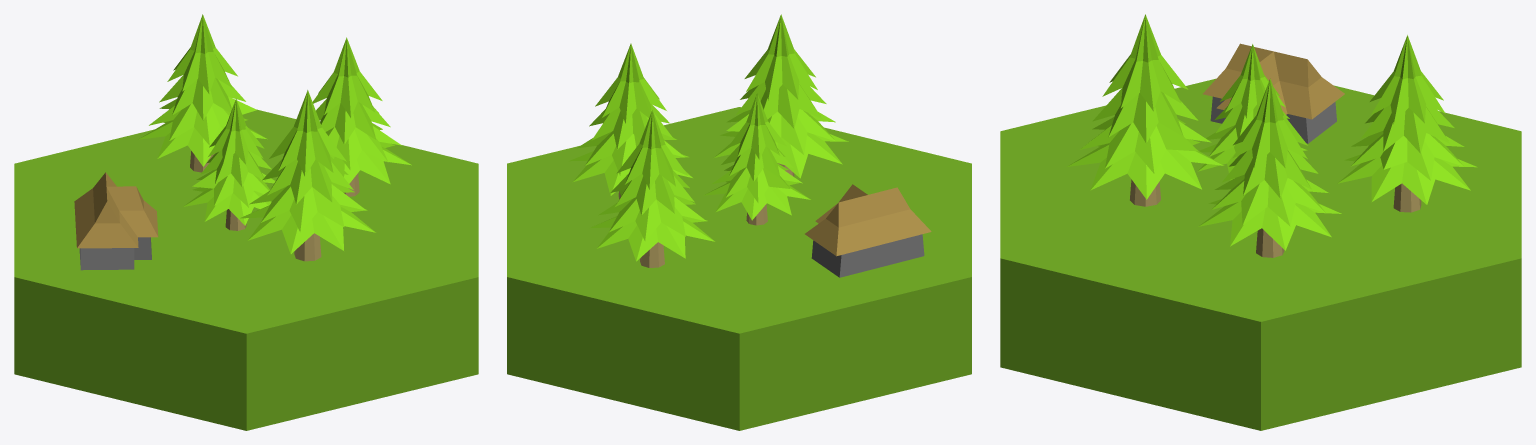
File: Casas_Pinos_Altos_1.fbx
3 views of the same model, side by side, from view 1: azimuth 30°, elevation 25°; view 2: azimuth 150°, elevation 25°; view 3: azimuth 270°, elevation 25° (orthographic). The views are drawn at different scales.
Visible parts, largest first — view 1: Casas_Pinos_Altos_1; view 2: Casas_Pinos_Altos_1; view 3: Casas_Pinos_Altos_1.
Part boxes in pixels (<box>): Casas_Pinos_Altos_1: <box>14,14,478,430</box>; Casas_Pinos_Altos_1: <box>507,14,971,430</box>; Casas_Pinos_Altos_1: <box>1000,14,1521,430</box>.
Size of the model in its own units: 200 by 108 by 173.
